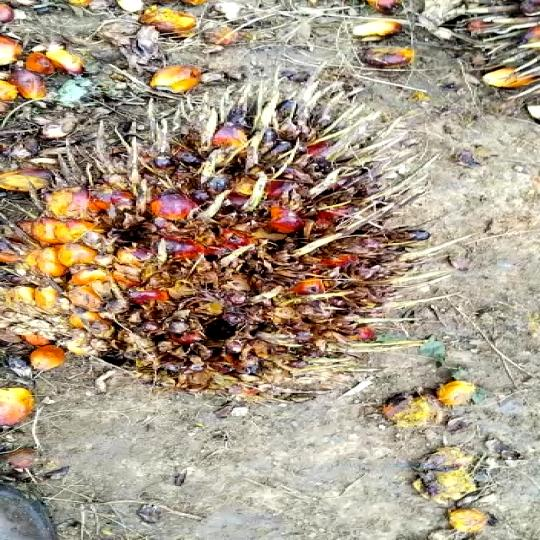terlalu masak: (0, 73, 468, 414)
